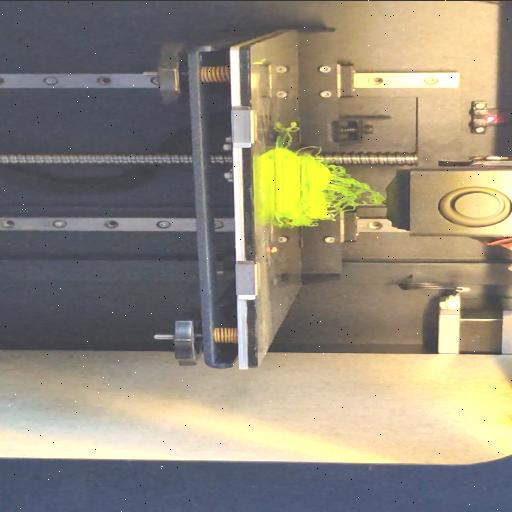spaghetti: (324, 162, 388, 218), (282, 120, 302, 148), (298, 142, 324, 154), (276, 216, 289, 228)
